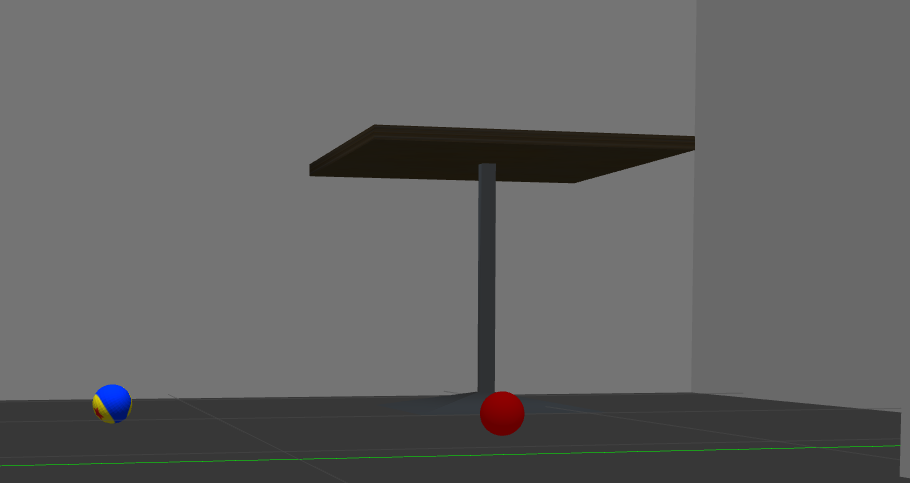toy_story_ball: (91, 381, 131, 426)
